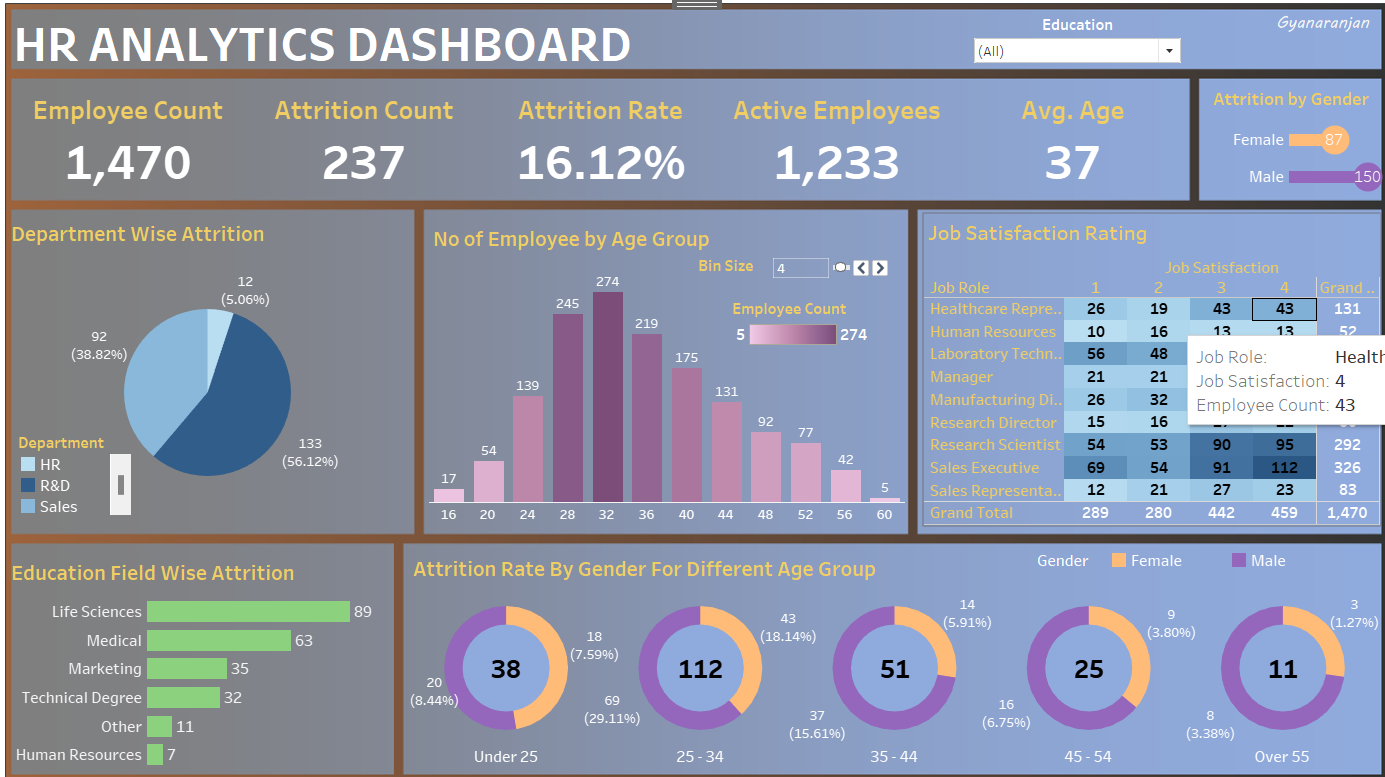

This screenshot's page, from the dashboard's own definition file:
{"tool":"tableau","page":{"name":"HR Analytics Dashboard","canvas":[1000,1000],"units":"permille","ordinal":0},"visuals":[{"type":"image","param":"D:/TABLEAU PROJECT MATERIAL(HR_ANALYTICS)/HR background final background.png","box":[5.1,9.8,989.9,980.3]},{"type":"filter","title":"Department Wise Attrition","param":"[federated.0eamqty0pprgg015lr8q6125nh7w].[none:Education:nk]","box":[636.1,30.8,132.3,55.4]},{"type":"text","box":[65.2,32,447.5,61.6]},{"type":"worksheet","title":"Attrition by Gender","mark":"Automatic","rows":["Gender"],"cols":["Calculation_1146447586119233536","Calculation_1146447586119233536"],"box":[824.1,113.3,112.7,140.4]},{"type":"worksheet","title":"KPI","mark":"Automatic","box":[65.2,118.2,747.5,134.2]},{"type":"worksheet","title":"Job Satisfaction Rating","mark":"Square","rows":["Job Role"],"cols":["Job Satisfaction"],"box":[643.7,278.3,288.6,387.9]},{"type":"worksheet","title":"Department Wise Attrition","mark":"Pie","box":[63.3,279.6,253.8,389.2]},{"type":"worksheet","title":"No of Employee by Age Group","mark":"Automatic","rows":["Employee Count"],"cols":["Age (bin)"],"box":[330.4,285.7,301.3,379.3]},{"type":"parameter","param":"[Parameters].[Parameter 1]","box":[500.6,328.8,122.2,38.2]},{"type":"legend","title":"No of Employee by Age Group","param":"[federated.0eamqty0pprgg015lr8q6125nh7w].[sum:Employee Count:qk]","box":[522.1,383,88.6,97.3]},{"type":"legend","title":"Department Wise Attrition","param":"[federated.0eamqty0pprgg015lr8q6125nh7w].[none:Department:nk]","box":[70.2,549.3,72.8,104.7]},{"type":"worksheet","title":"Attrition Rate By Gender For Different Age Group","mark":"Pie","rows":["Calculation_1345731870982651905","Calculation_1345731870982651905"],"cols":["CF_age band"],"box":[317.7,697,614.6,272.2]},{"type":"legend","title":"Attrition Rate By Gender For Different Age Group","param":"[federated.0eamqty0pprgg015lr8q6125nh7w].[none:Gender:nk]","box":[715.2,697,210.8,43.1]},{"type":"worksheet","title":"Education Field Wise Attrition","mark":"Automatic","rows":["Education Field"],"cols":["Calculation_1146447586119233536"],"box":[63.3,702,240.5,268.5]}]}

Visuals, with their boxes on the dashboard's canvas, which has no fixed pixel size, in thousandths of its width and height (x1, y1, x2, y2). These are canvas units, not pixel positions in the 1385x777 screenshot, which may show the page scaled, cropped or inside an application window:
image: 5:10:995:990
"Department Wise Attrition" filter: 636:31:768:86
text: 65:32:513:94
"Attrition by Gender" worksheet: 824:113:937:254
"KPI" worksheet: 65:118:813:252
"Job Satisfaction Rating" worksheet (Square marks): 644:278:932:666
"Department Wise Attrition" worksheet (Pie marks): 63:280:317:669
"No of Employee by Age Group" worksheet: 330:286:632:665
parameter: 501:329:623:367
"No of Employee by Age Group" legend: 522:383:611:480
"Department Wise Attrition" legend: 70:549:143:654
"Attrition Rate By Gender For Different Age Group" worksheet (Pie marks): 318:697:932:969
"Attrition Rate By Gender For Different Age Group" legend: 715:697:926:740
"Education Field Wise Attrition" worksheet: 63:702:304:970
